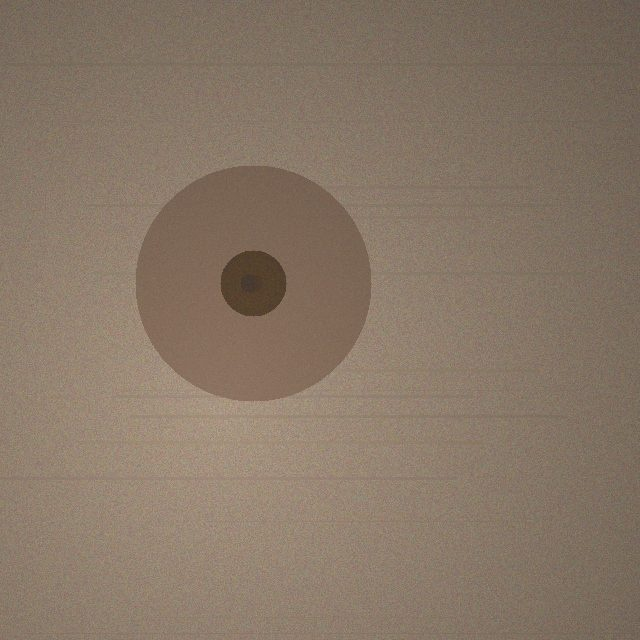cold_weld: (135, 165, 371, 401)
